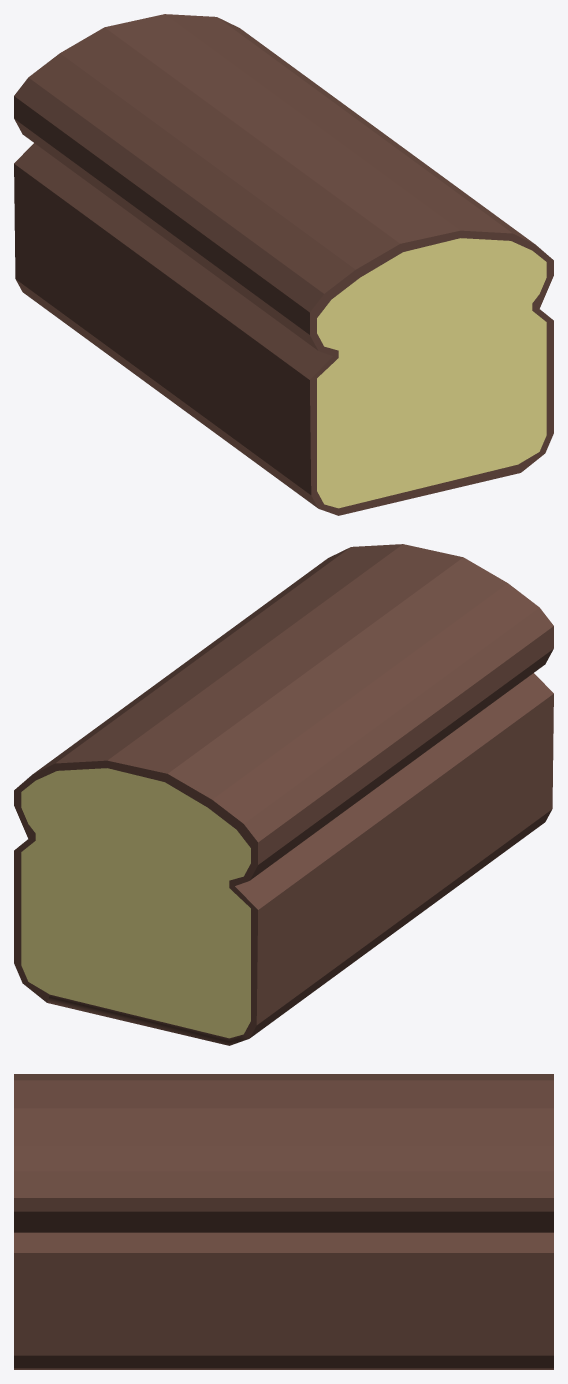
Rendered from bread2.fbx.
The picture shows the model from 3 angles, top to bottom: view 1: azimuth 30°, elevation 25°; view 2: azimuth 150°, elevation 25°; view 3: azimuth 270°, elevation 25°; orthographic projection. The views are drawn at different scales.
Visible parts, largest first — view 1: loaf of bread; view 2: loaf of bread; view 3: loaf of bread.
Boxes of the visible parts, bbox=[...] form: loaf of bread: bbox=[14, 14, 553, 515]; loaf of bread: bbox=[14, 544, 553, 1045]; loaf of bread: bbox=[14, 1074, 553, 1369].
Size of the model in its own units: 195 by 197 by 408.
